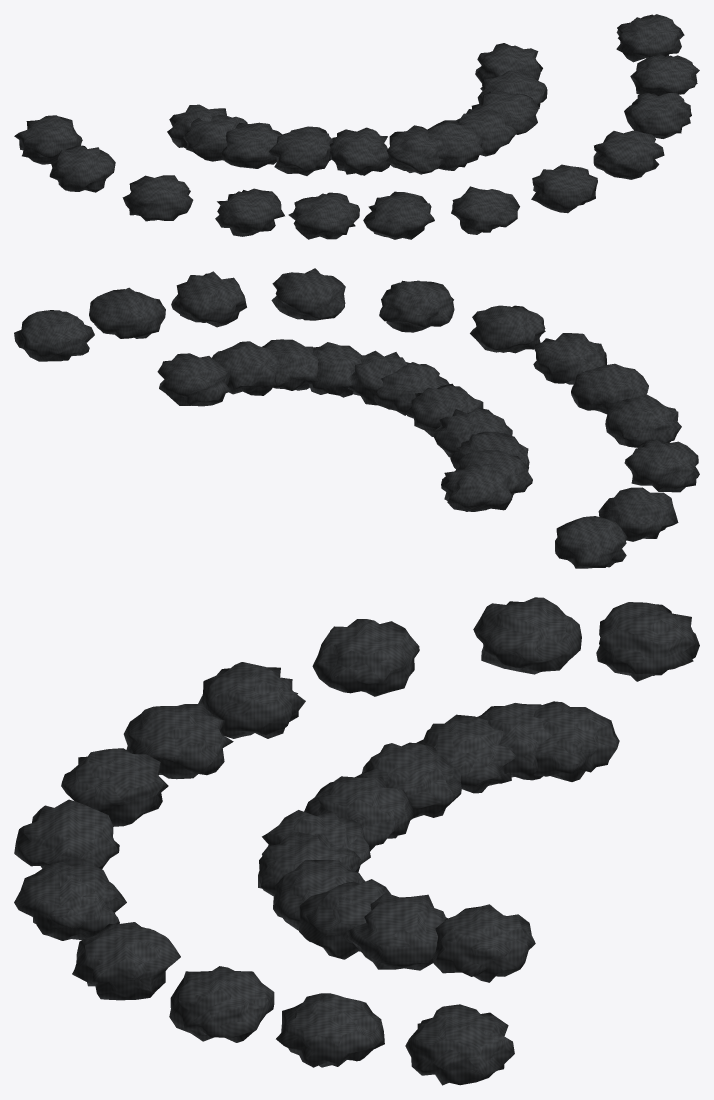
Rendered from Landscape_Basalt_5.fbx.
3 renders of one model, top to bottom at view 1: azimuth 30°, elevation 25°; view 2: azimuth 150°, elevation 25°; view 3: azimuth 270°, elevation 25°, orthographic. The views are drawn at different scales.
Visible parts, largest first — view 1: Landscape_Basalt_5; view 2: Landscape_Basalt_5; view 3: Landscape_Basalt_5.
Part boxes in pixels (<box>): Landscape_Basalt_5: <box>14,14,699,239</box>; Landscape_Basalt_5: <box>14,268,699,568</box>; Landscape_Basalt_5: <box>14,597,699,1085</box>.
Size of the model in its own units: 90590 by 7515 by 54989.
Materials: 1 (1 with a texture image).
